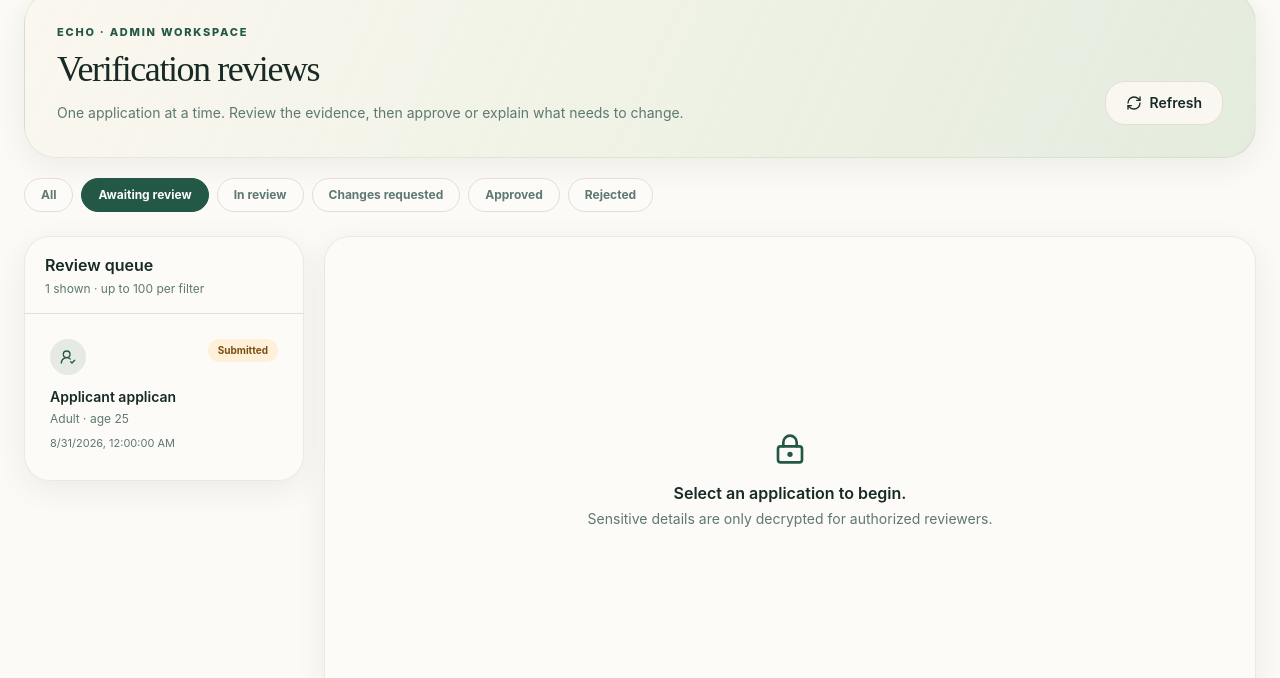
Scenario: Admin verification workspace › requires evidence acknowledgement and explicit confirmation before approval
This screenshot has width=1280, height=678.
Click the button "Applicant applican". click: (164, 395)
box: [33, 322, 295, 468]
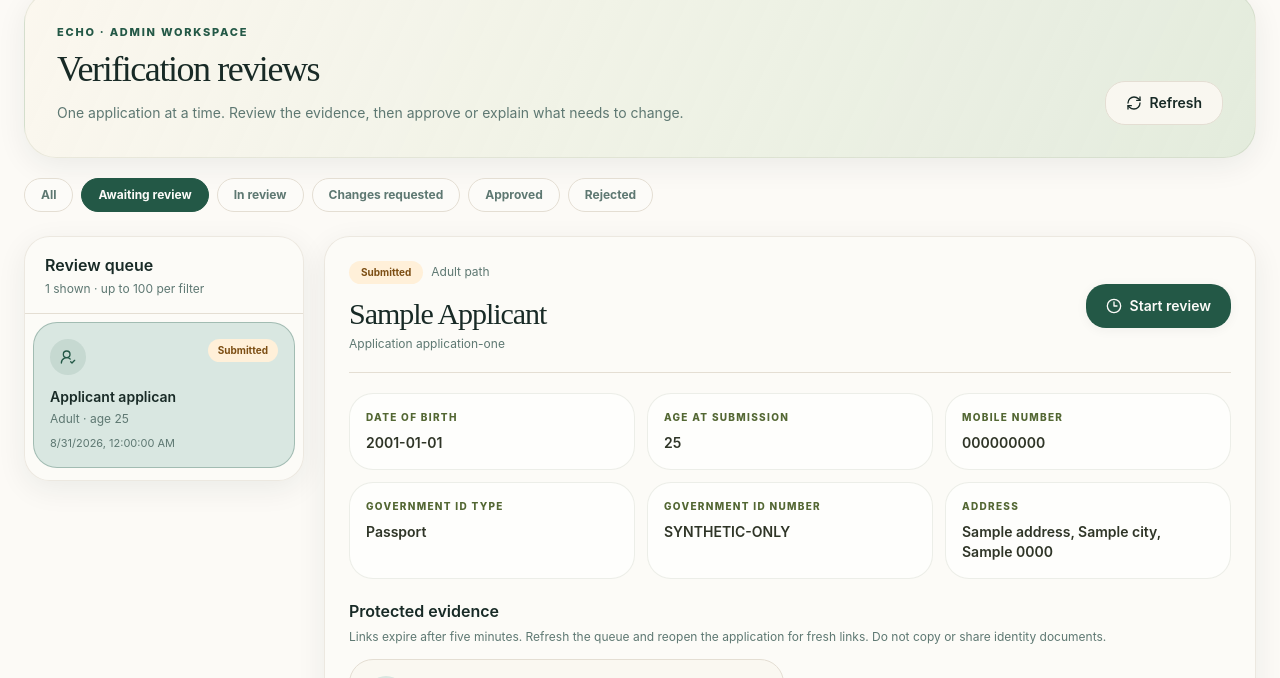
Expected: the heading "Sample Applicant" is shown, [349, 296, 546, 332]
Click the button "Start review". click: (1158, 306)
box: [1086, 284, 1231, 328]
(page scrolled)
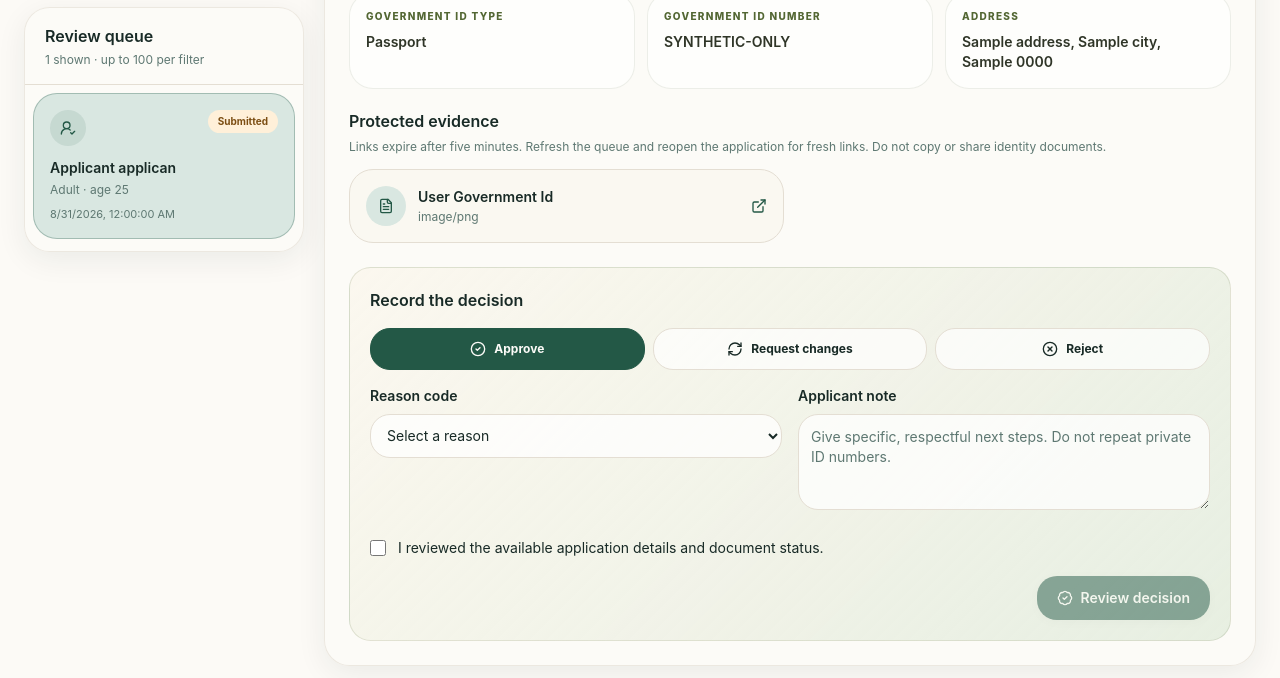
Expected: the button "Review decision" is disabled, [1036, 576, 1210, 620]
Click the checkbox labelled "I reviewed the available application". click: (378, 548)
box: [370, 540, 386, 556]
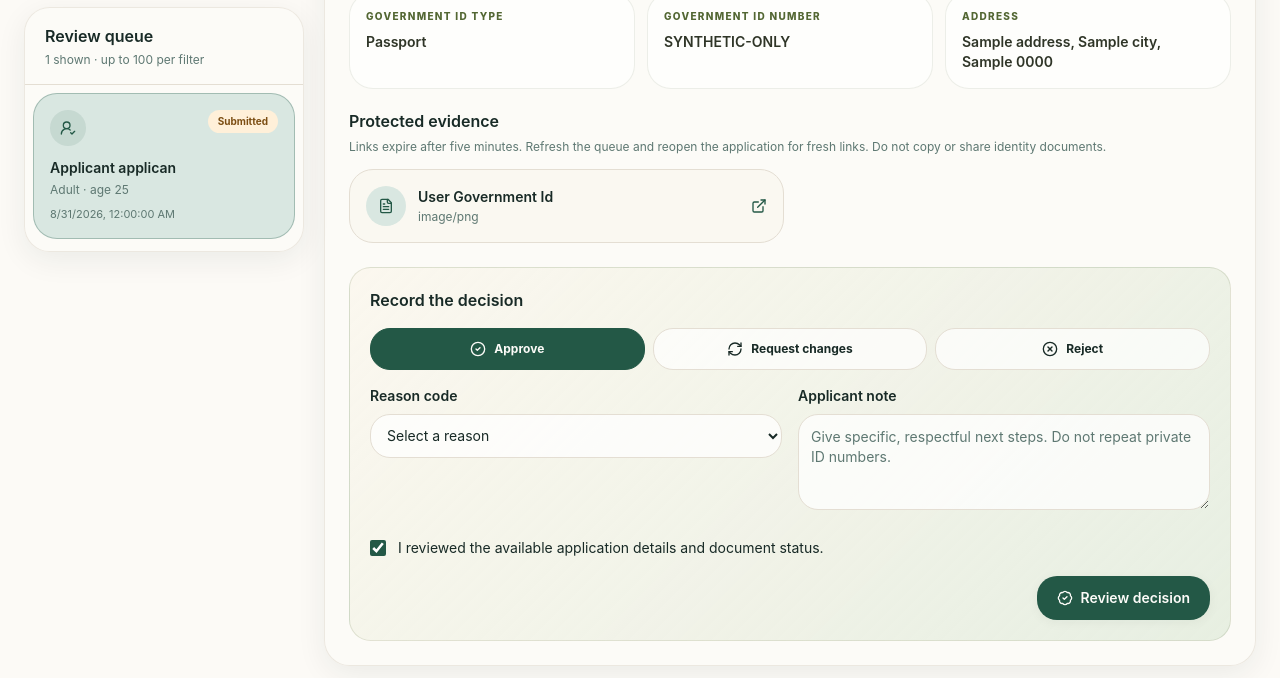
Click the button "Review decision". click: (1123, 598)
box: [1036, 576, 1210, 620]
(page scrolled)
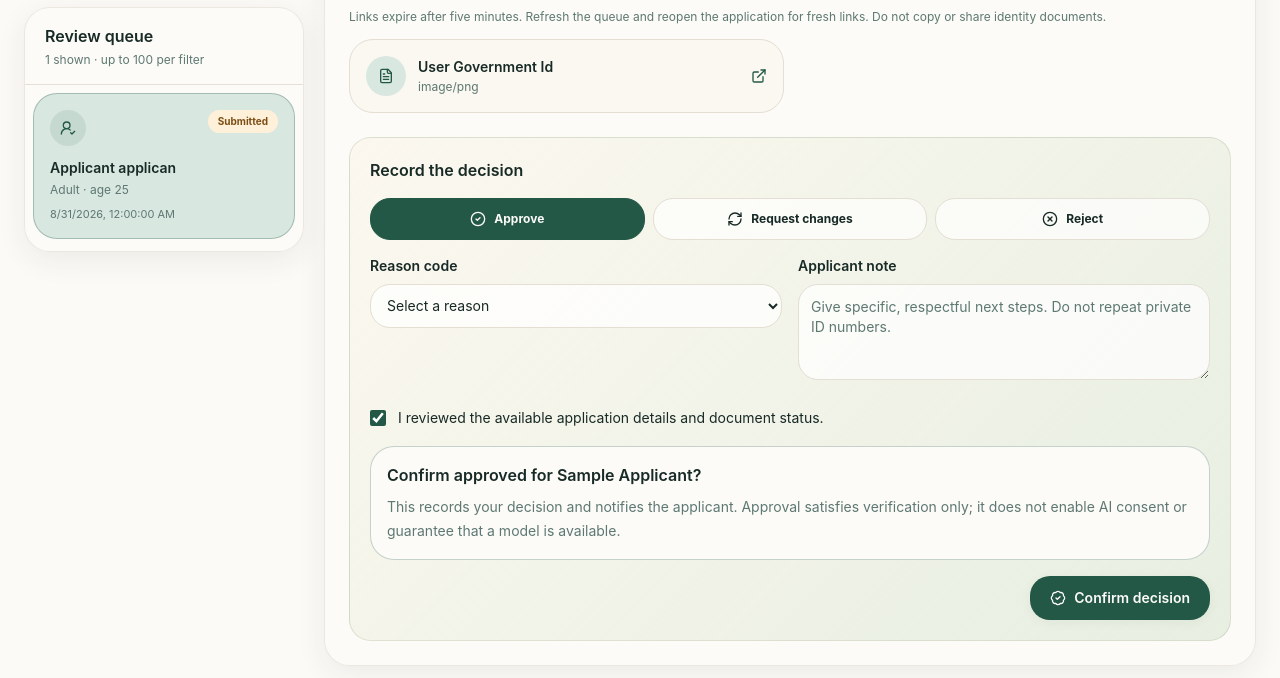
Expected: the text "Confirm approved for Sample Applicant?" is shown, [387, 464, 701, 484]
Click the button "Confirm decision". click: (1120, 598)
box: [1030, 576, 1210, 620]
(page scrolled)
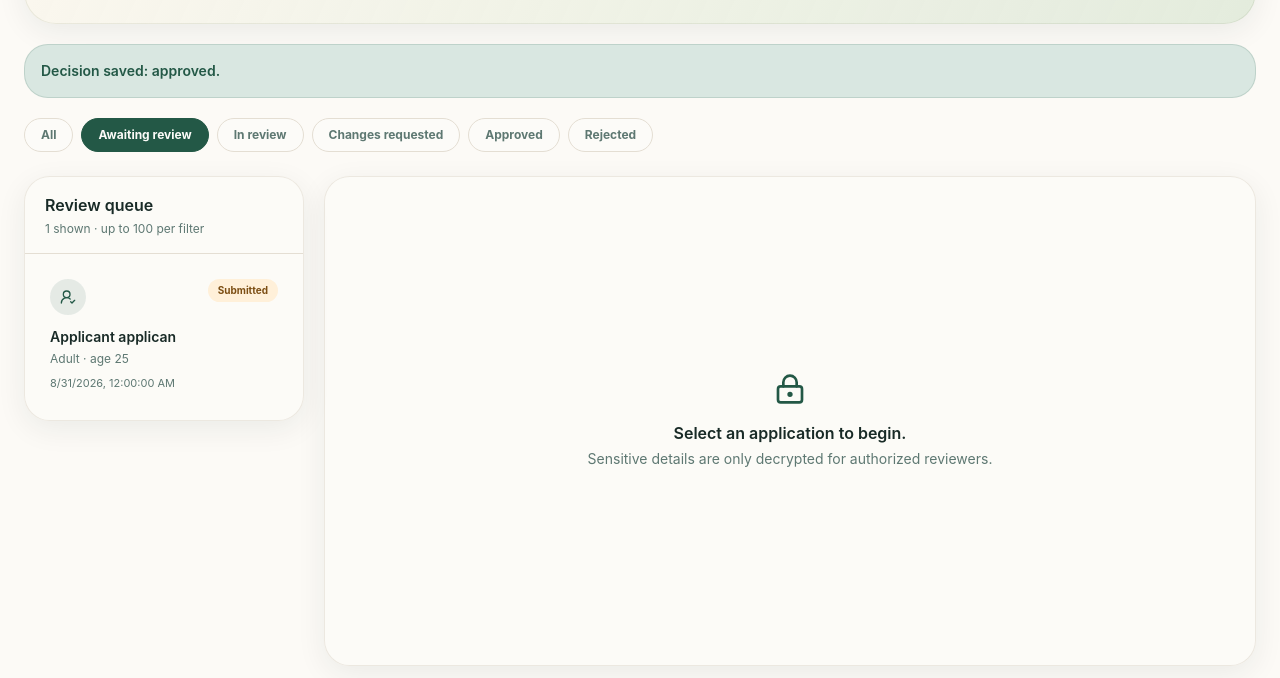
Expected: the text "Decision saved: approved." is shown, [24, 44, 1256, 98]
